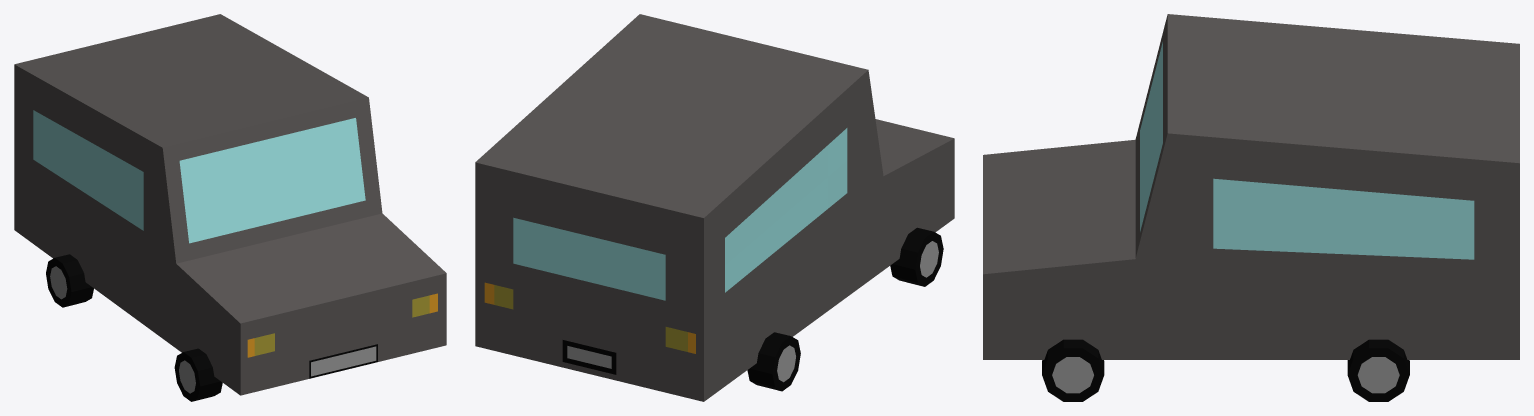
The model's file is CarFix.fbx.
3 renders of one model, left to right at view 1: azimuth 30°, elevation 25°; view 2: azimuth 150°, elevation 25°; view 3: azimuth 270°, elevation 25°, orthographic. The views are drawn at different scales.
Visible parts, largest first — view 1: Cylinder.001; view 2: Cylinder.001; view 3: Cylinder.001.
Part boxes in pixels (x1,y1,x2,y2): Cylinder.001: (14, 14, 446, 401); Cylinder.001: (475, 14, 954, 401); Cylinder.001: (983, 14, 1519, 401).
Bounding box in the file's own units: 229 × 380 × 203.
